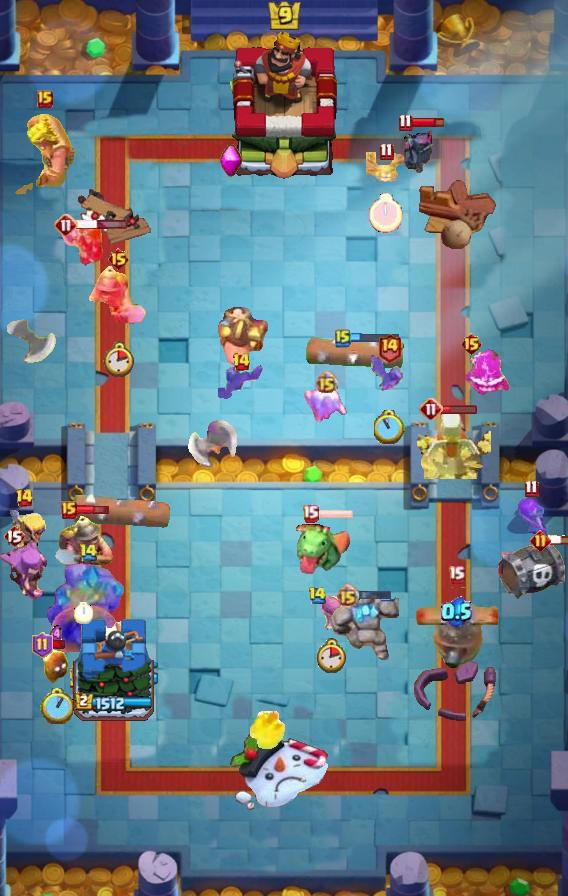arrows: (2, 510, 47, 551)
bandit: (51, 510, 115, 582), (87, 259, 149, 327)
barbarian: (218, 365, 264, 403), (371, 352, 407, 394)
battle-ram: (401, 127, 434, 174)
bomber: (42, 647, 70, 685)
cannon: (512, 499, 550, 545)
cannoneer-tower: (43, 562, 133, 652)
dark-prince: (414, 581, 498, 669)
electro-spirit: (441, 597, 471, 628), (50, 624, 62, 643)
electro-wizard: (287, 514, 353, 576)
elixir: (369, 193, 403, 233), (40, 688, 73, 724), (102, 341, 133, 377), (375, 410, 406, 444), (316, 639, 346, 673), (74, 602, 93, 624)
emote: (76, 218, 128, 230), (349, 332, 401, 344), (410, 116, 446, 129), (75, 503, 110, 516), (317, 508, 354, 520), (441, 404, 478, 415), (357, 591, 392, 602), (548, 534, 568, 546), (50, 638, 67, 650)
freeze: (214, 303, 272, 375)
goblin: (319, 593, 345, 631)
goblin-hut: (9, 112, 81, 200)
hog-rider: (60, 222, 104, 270)
ice-spirit-evolution: (366, 152, 406, 184)
king-tower: (222, 31, 346, 181)
minion: (71, 492, 171, 530), (305, 334, 405, 370)
mirror: (301, 384, 351, 422)
poison: (403, 405, 491, 479)
queen-tower: (70, 616, 158, 731)
rascal-girl: (1, 541, 56, 603)
royal-giant: (184, 420, 238, 480), (0, 317, 56, 373)
royal-recruit-evolution: (494, 539, 568, 603)
selected: (74, 692, 154, 712)
skeleton-king-skill: (219, 144, 243, 178)
spear-goblin: (462, 348, 514, 402)
text: (378, 333, 403, 364), (54, 213, 78, 237), (419, 397, 443, 421), (106, 247, 129, 271), (461, 332, 484, 356), (32, 632, 53, 658), (315, 370, 338, 393), (336, 585, 359, 608), (3, 524, 25, 548), (529, 530, 550, 551), (232, 352, 251, 372), (15, 488, 34, 508), (79, 542, 98, 561), (308, 587, 327, 606), (447, 565, 465, 583), (302, 505, 319, 524), (335, 328, 351, 348), (37, 90, 53, 108), (61, 501, 77, 519), (399, 113, 414, 132), (378, 143, 393, 161), (525, 479, 540, 497)
valkyrie: (245, 711, 291, 753)
valkyrie-evolution: (327, 596, 399, 666)
